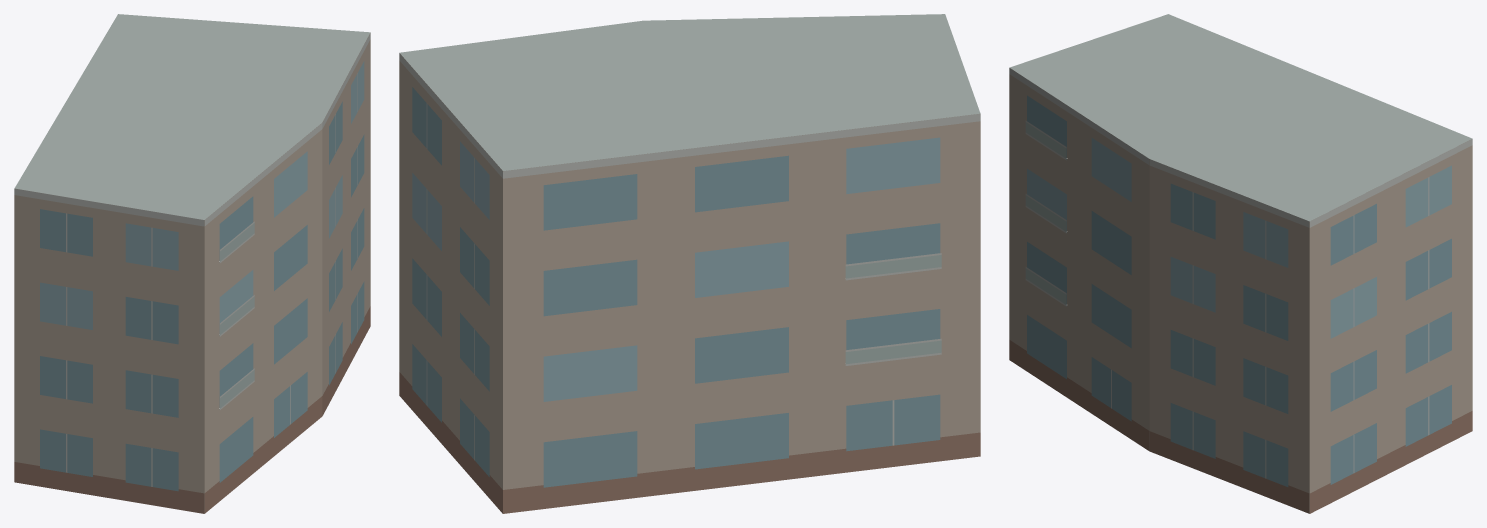
The model's file is survey-upis-32874311.glb.
3 renders of one model, left to right at view 1: azimuth 30°, elevation 25°; view 2: azimuth 150°, elevation 25°; view 3: azimuth 270°, elevation 25°, orthographic. The views are drawn at different scales.
Visible parts, largest first — view 1: survey-upis-32874311.tmp; view 2: survey-upis-32874311.tmp; view 3: survey-upis-32874311.tmp.
Boxes of the visible parts, x1,y1,x2,y2 form: survey-upis-32874311.tmp: (14,14,370,513); survey-upis-32874311.tmp: (399,14,980,513); survey-upis-32874311.tmp: (1009,14,1472,513).
Size of the model in its own units: 16.75 by 11 by 15.8.
